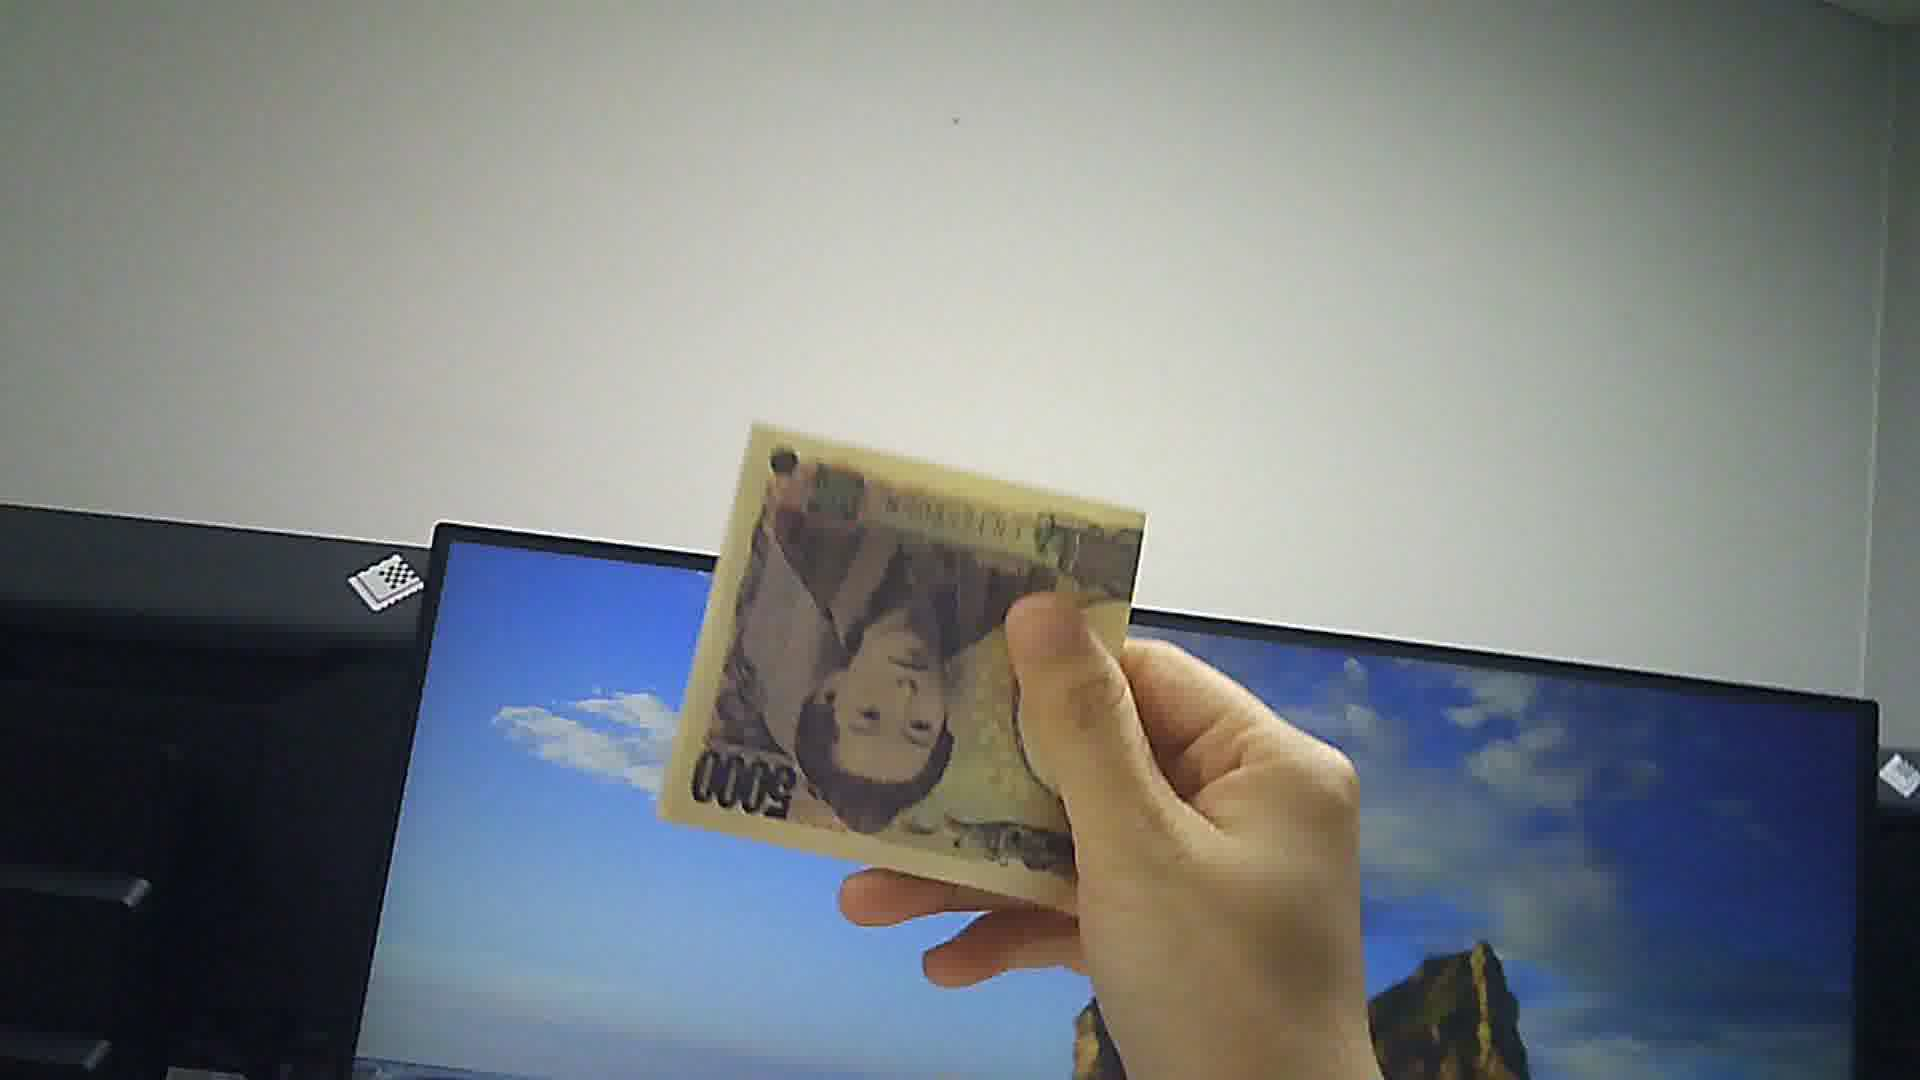5,000 Yen: (655, 414, 1204, 926)
